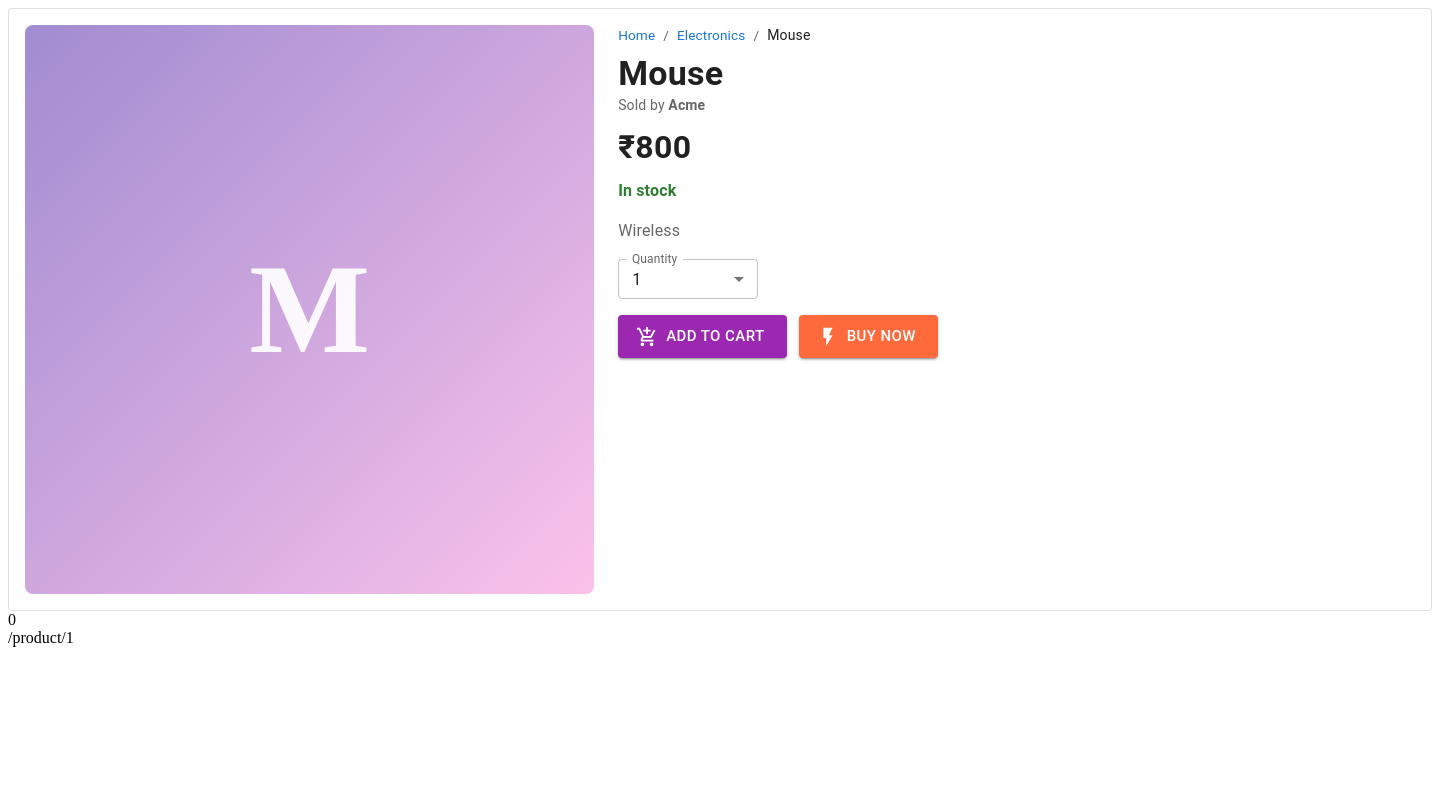
Test case: ProductDetail › Buy now adds the product and opens the cart
Click the button "Buy now": (868, 337) top-left (799, 315), bottom-right (938, 358)
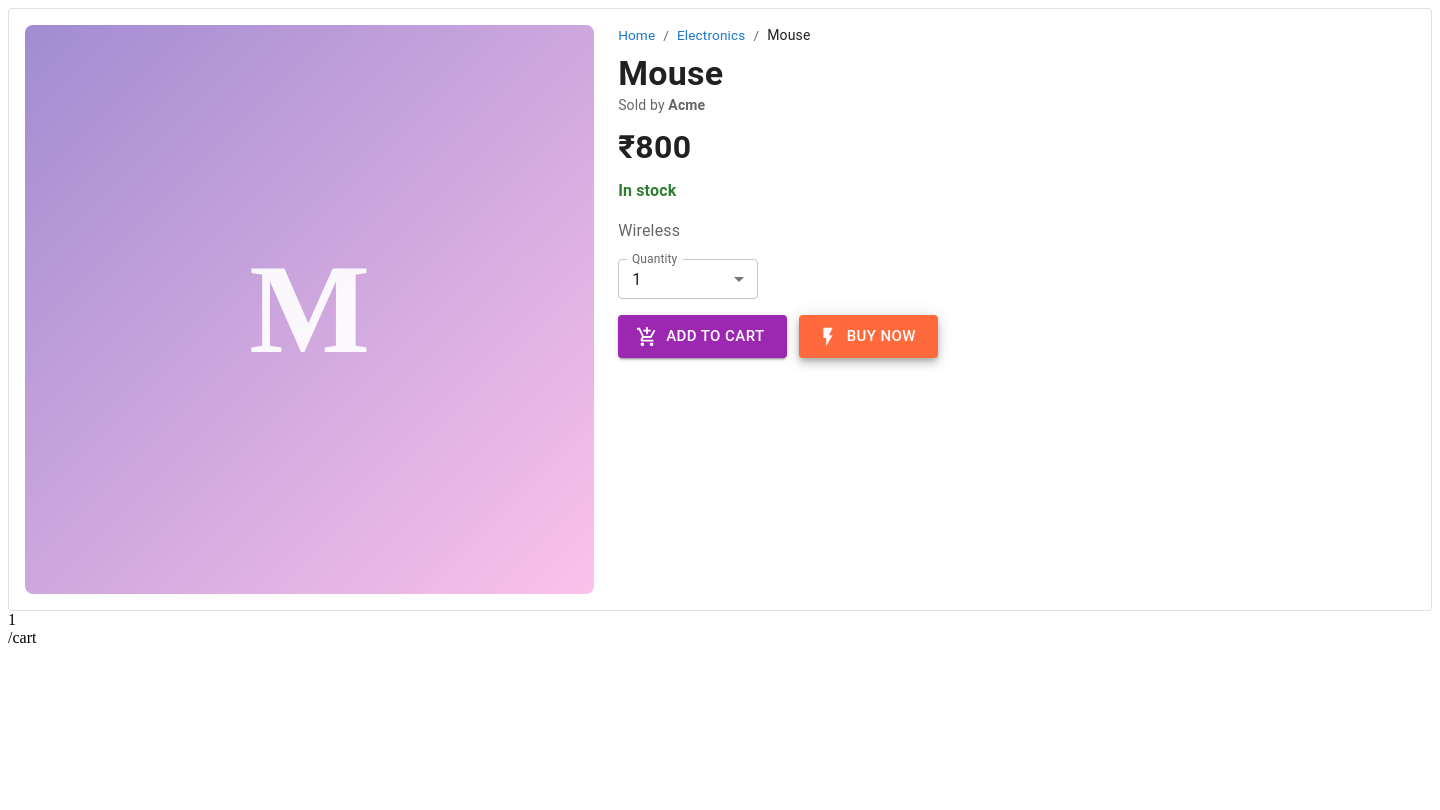
Expected: the text with test id "count" reads "1", top-left (8, 611), bottom-right (16, 628)
Expected: the text with test id "location" reads "/cart", top-left (8, 629), bottom-right (36, 646)
